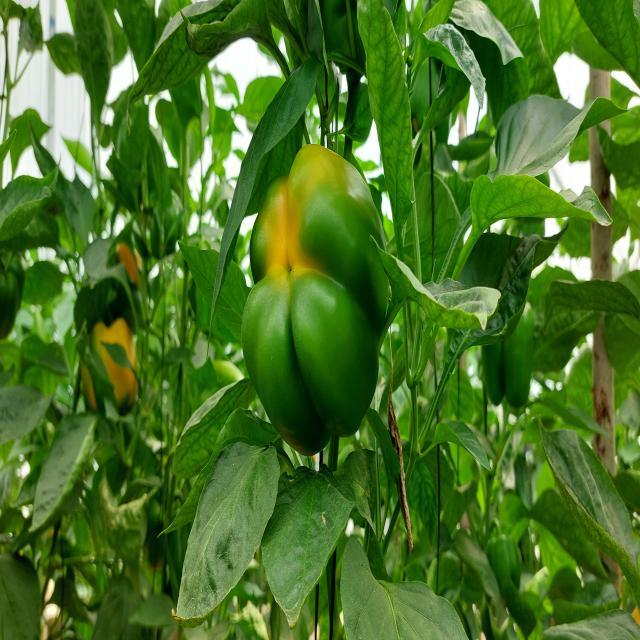GreenishYellow--Can-be-Harvested: (234, 137, 386, 462), (53, 223, 166, 436)
